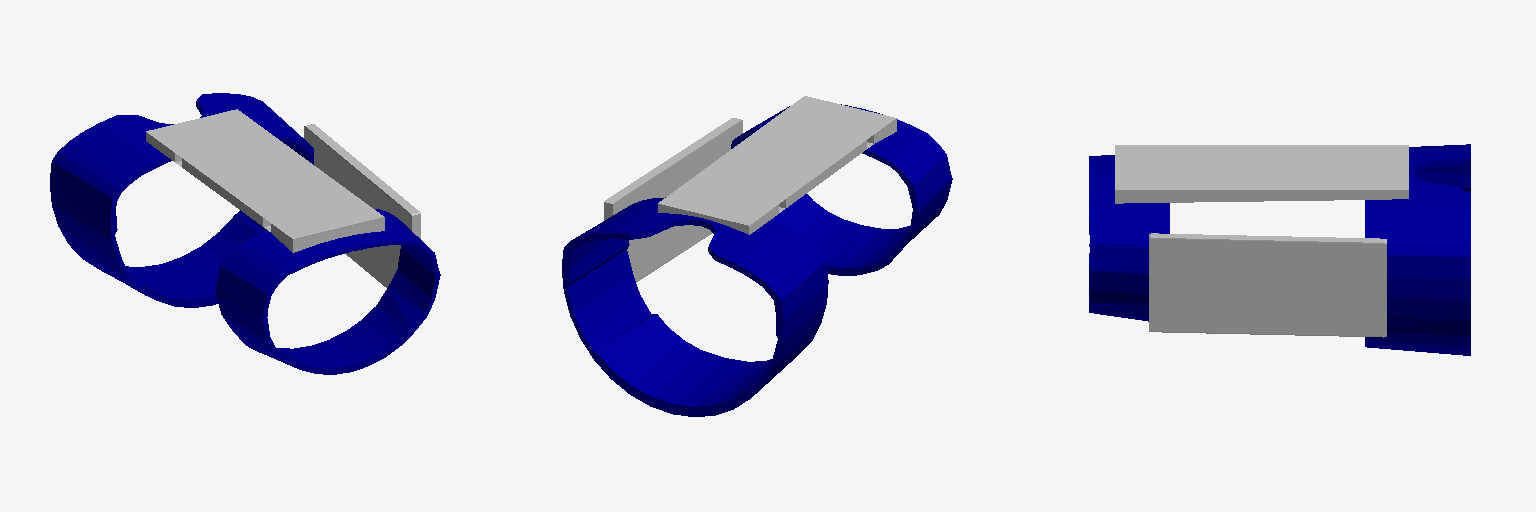
File: sleeve.obj
3 renders of one model, left to right at view 1: azimuth 30°, elevation 25°; view 2: azimuth 150°, elevation 25°; view 3: azimuth 270°, elevation 25°, orthographic.
Parts seen in each view (by area): view 1: ring_Cylinder, ring_back_Cylinder.003, hinge_plate_Cube.003, bind_plate_Cube.016; view 2: ring_Cylinder, hinge_plate_Cube.003, ring_back_Cylinder.003, bind_plate_Cube.016; view 3: bind_plate_Cube.016, ring_Cylinder, hinge_plate_Cube.003, ring_back_Cylinder.003.
Boxes of the visible parts, x1=… form: ring_Cylinder: x1=50, y1=93, x2=313, y2=307; ring_back_Cylinder.003: x1=215, y1=209, x2=440, y2=374; hinge_plate_Cube.003: x1=146, y1=109, x2=384, y2=252; bind_plate_Cube.016: x1=304, y1=124, x2=420, y2=287; ring_Cylinder: x1=562, y1=197, x2=828, y2=416; hinge_plate_Cube.003: x1=658, y1=96, x2=896, y2=234; ring_back_Cylinder.003: x1=731, y1=104, x2=952, y2=275; bind_plate_Cube.016: x1=604, y1=118, x2=742, y2=282; bind_plate_Cube.016: x1=1149, y1=233, x2=1386, y2=337; ring_Cylinder: x1=1365, y1=144, x2=1470, y2=355; hinge_plate_Cube.003: x1=1115, y1=145, x2=1408, y2=203; ring_back_Cylinder.003: x1=1089, y1=155, x2=1169, y2=321.
Bounding box in the file's own units: 4.84 × 3.69 × 7.21.